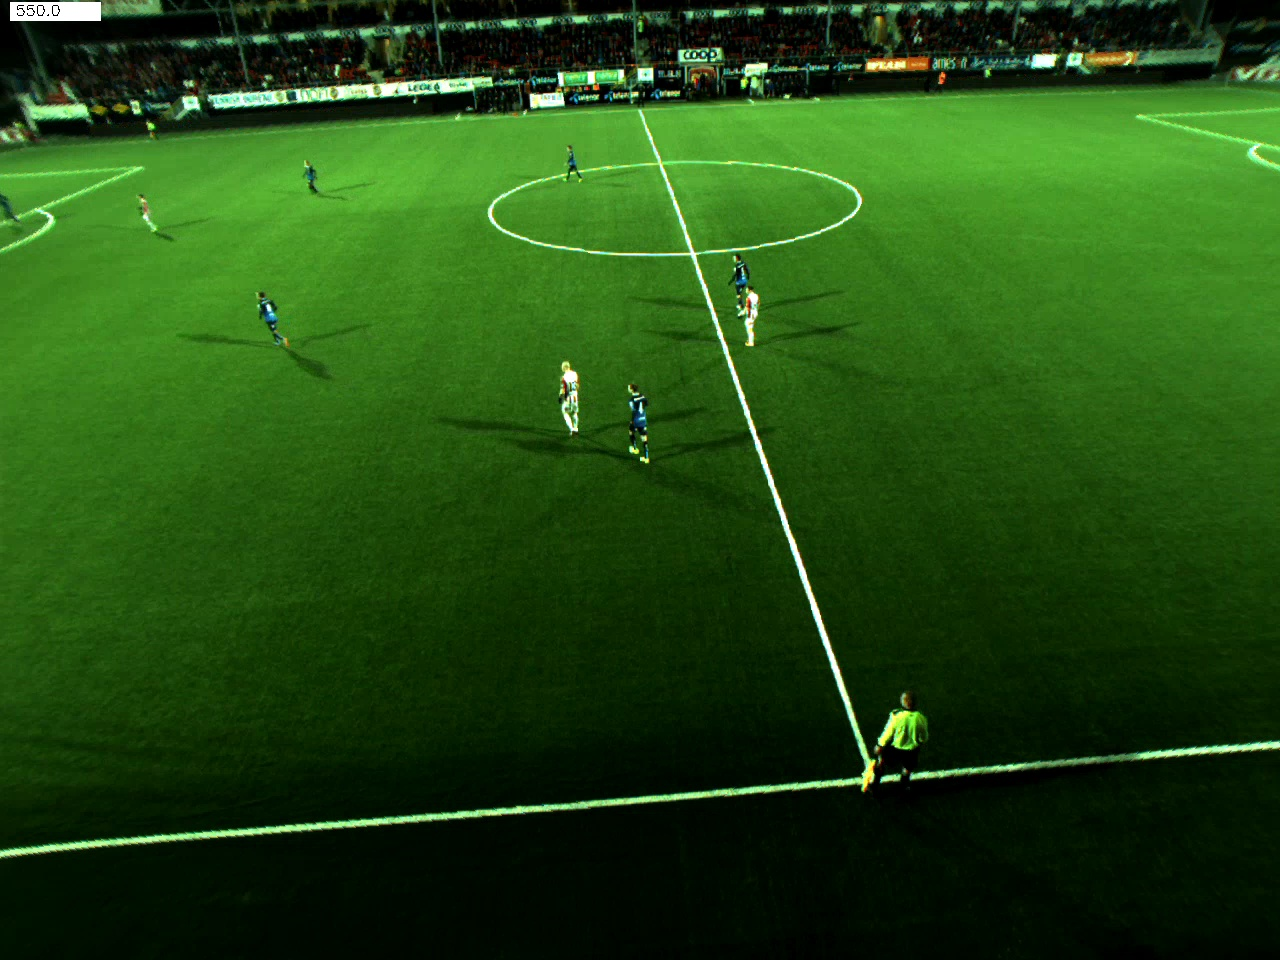blue: (620, 380, 659, 470), (255, 296, 298, 350), (548, 139, 585, 185), (726, 249, 749, 292), (298, 157, 323, 195), (1, 192, 21, 224)
red: (553, 362, 589, 445), (739, 285, 774, 346), (134, 188, 160, 235)
yellow: (860, 688, 924, 794), (139, 119, 164, 144)
